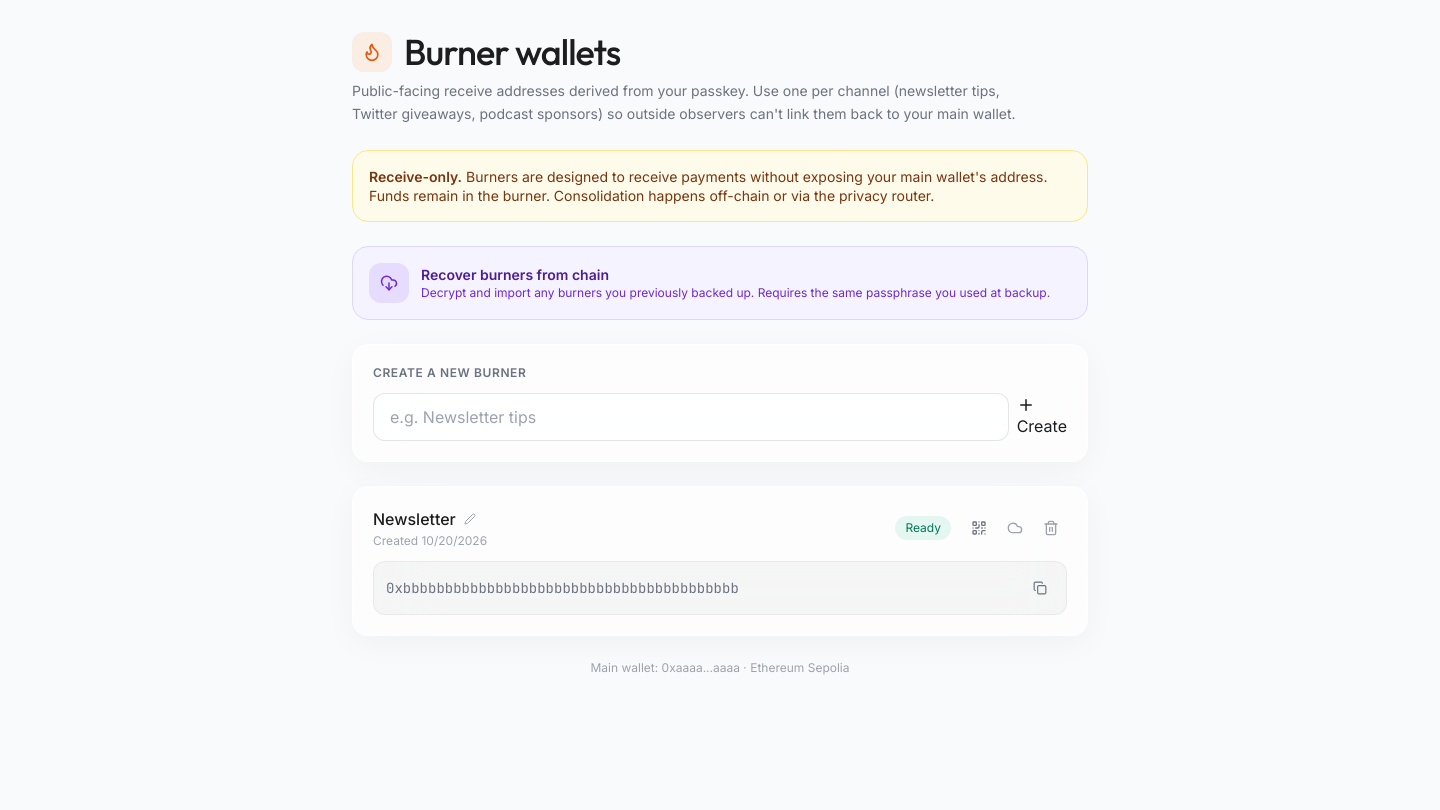
Test: Burners — backup modal (§15.x) › clicking Back up to chain opens modal with backup-specific copy
What coordinates should you click on to do the following:
click the button with test id "burner-backup-b1"
I would click on:
 (1015, 528)
Its box is [999, 512, 1031, 544].
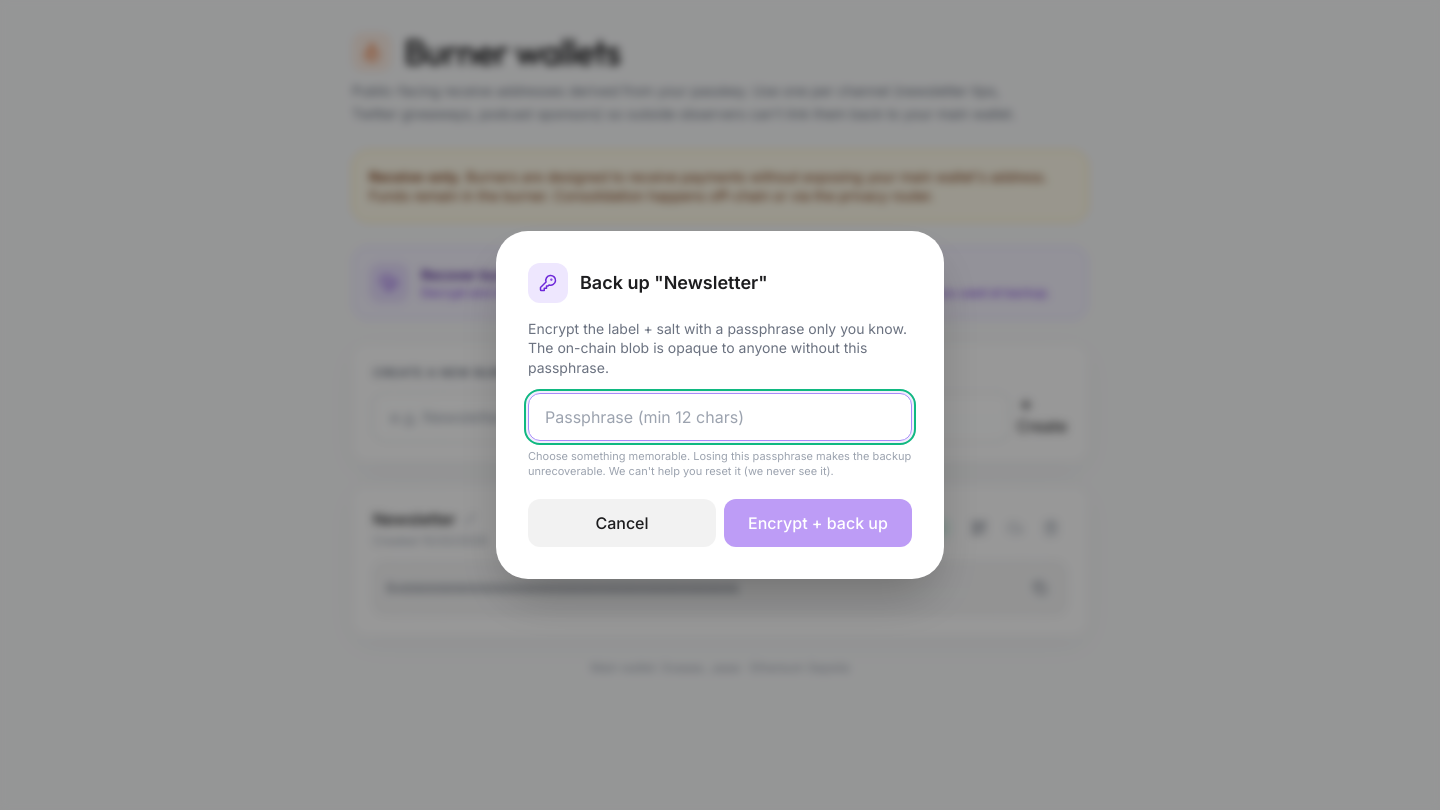
Expected: the text "Back up" is shown, [580, 272, 768, 293]
Expected: the text "Encrypt the label + salt" is shown, [528, 320, 907, 376]
Expected: the text "opaque to anyone without this passphrase" is shown, [528, 320, 907, 376]
